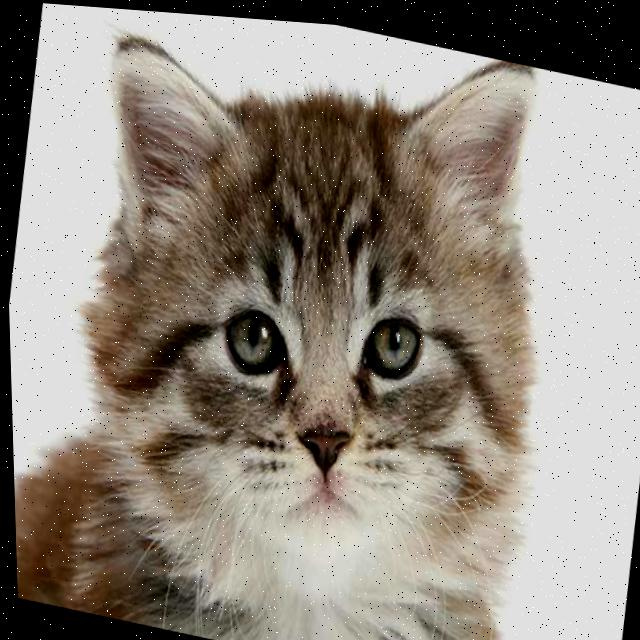Maine Coon: (0, 0, 594, 640)
